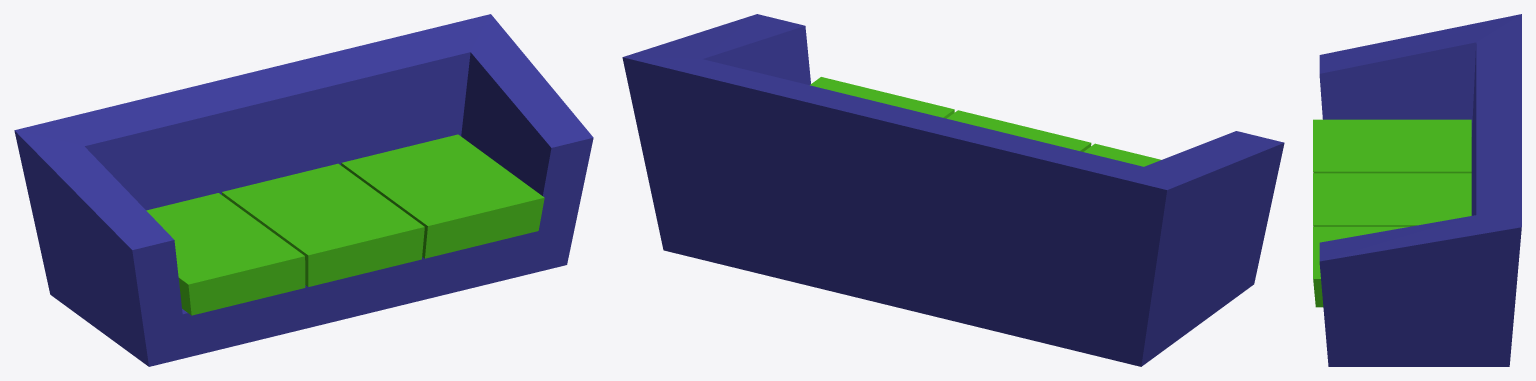
Rendered from House_LivingRoom_Couch.FBX.
3 renders of one model, left to right at view 1: azimuth 30°, elevation 25°; view 2: azimuth 150°, elevation 25°; view 3: azimuth 270°, elevation 25°, orthographic. The views are drawn at different scales.
Visible parts, largest first — view 1: House_LivingRoom_Couch_chunkRight, House_LivingRoom_Couch_chunkLeft, House_LivingRoom_Couch_chunkCenter, House_LivingRoom_Couch_cushionRight, House_LivingRoom_Couch_cushionCenter, House_LivingRoom_Couch_cushionLeft; view 2: House_LivingRoom_Couch_chunkRight, House_LivingRoom_Couch_chunkLeft, House_LivingRoom_Couch_chunkCenter, House_LivingRoom_Couch_cushionRight, House_LivingRoom_Couch_cushionCenter, House_LivingRoom_Couch_cushionLeft; view 3: House_LivingRoom_Couch_chunkRight, House_LivingRoom_Couch_chunkLeft, House_LivingRoom_Couch_cushionLeft, House_LivingRoom_Couch_cushionCenter, House_LivingRoom_Couch_chunkCenter, House_LivingRoom_Couch_cushionRight.
Boxes of the visible parts, x1,y1,x2,y2 form: House_LivingRoom_Couch_chunkRight: (269, 14, 593, 290); House_LivingRoom_Couch_chunkLeft: (14, 100, 252, 366); House_LivingRoom_Couch_chunkCenter: (137, 68, 462, 343); House_LivingRoom_Couch_cushionRight: (341, 134, 544, 258); House_LivingRoom_Couch_cushionCenter: (221, 163, 424, 286); House_LivingRoom_Couch_cushionLeft: (146, 193, 305, 315); House_LivingRoom_Couch_chunkRight: (622, 14, 897, 280); House_LivingRoom_Couch_chunkLeft: (1027, 131, 1284, 366); House_LivingRoom_Couch_chunkCenter: (790, 107, 1064, 348); House_LivingRoom_Couch_cushionRight: (810, 77, 954, 118); House_LivingRoom_Couch_cushionCenter: (947, 110, 1091, 151); House_LivingRoom_Couch_cushionLeft: (1084, 143, 1160, 166); House_LivingRoom_Couch_chunkRight: (1319, 127, 1521, 366); House_LivingRoom_Couch_chunkLeft: (1319, 14, 1521, 159); House_LivingRoom_Couch_cushionLeft: (1313, 119, 1471, 173); House_LivingRoom_Couch_cushionCenter: (1313, 173, 1471, 226); House_LivingRoom_Couch_chunkCenter: (1471, 68, 1521, 215); House_LivingRoom_Couch_cushionRight: (1313, 226, 1409, 307).
Size of the model in its own units: 482 by 161 by 200.
